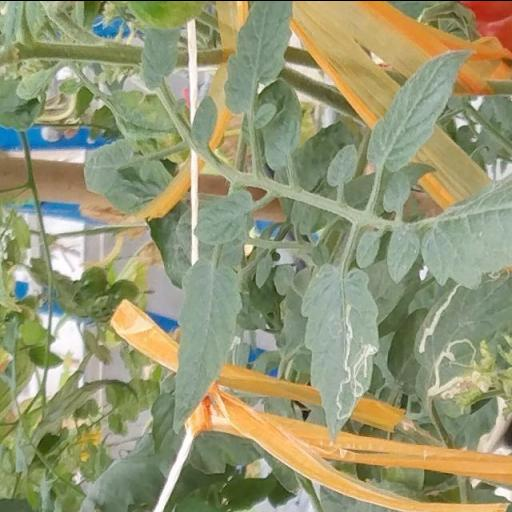disease_tomato: (298, 259, 384, 447), (409, 270, 485, 422)
